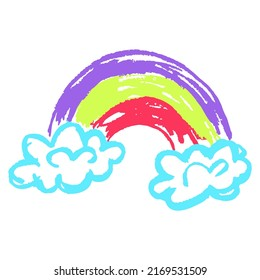cloud: (8, 121, 126, 194), (148, 139, 252, 211)
rainbow: (48, 46, 234, 153)
